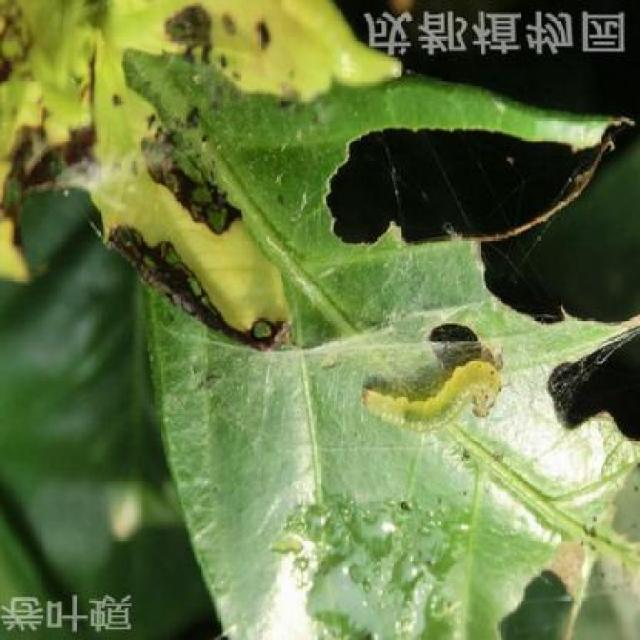leaf-folder: (364, 346, 514, 456)
